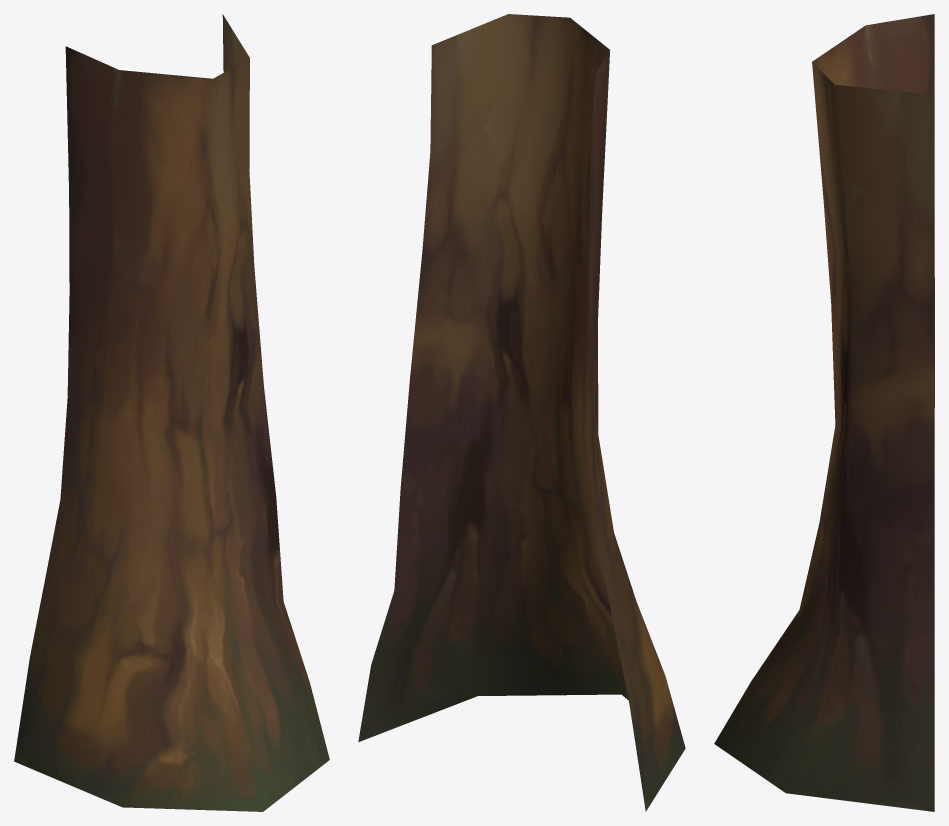
File: yw_shanlin_bigtree_003.FBX
The picture shows the model from 3 angles, left to right: view 1: azimuth 30°, elevation 25°; view 2: azimuth 150°, elevation 25°; view 3: azimuth 270°, elevation 25°; orthographic projection. The views are drawn at different scales.
Parts seen in each view (by area): view 1: yw_shanlin_bigtree_003; view 2: yw_shanlin_bigtree_003; view 3: yw_shanlin_bigtree_003.
Boxes of the visible parts, x1,y1,x2,y2 form: yw_shanlin_bigtree_003: (14,14,329,811); yw_shanlin_bigtree_003: (358,14,685,811); yw_shanlin_bigtree_003: (714,14,934,811).
Size of the model in its own units: 143 by 99.43 by 343.
